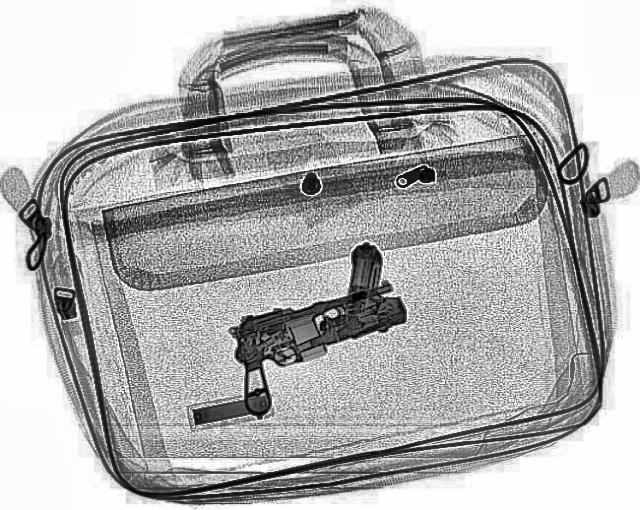Gun: (202, 276, 428, 416), (228, 240, 422, 368)
